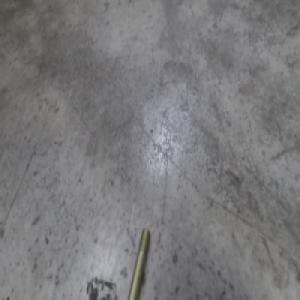Bolt: (126, 227, 150, 299)
